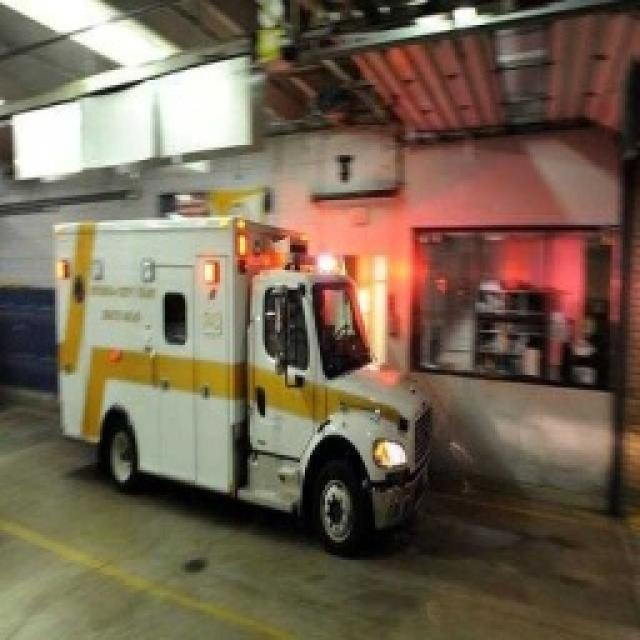emergency-vehicle: (46, 206, 444, 554)
